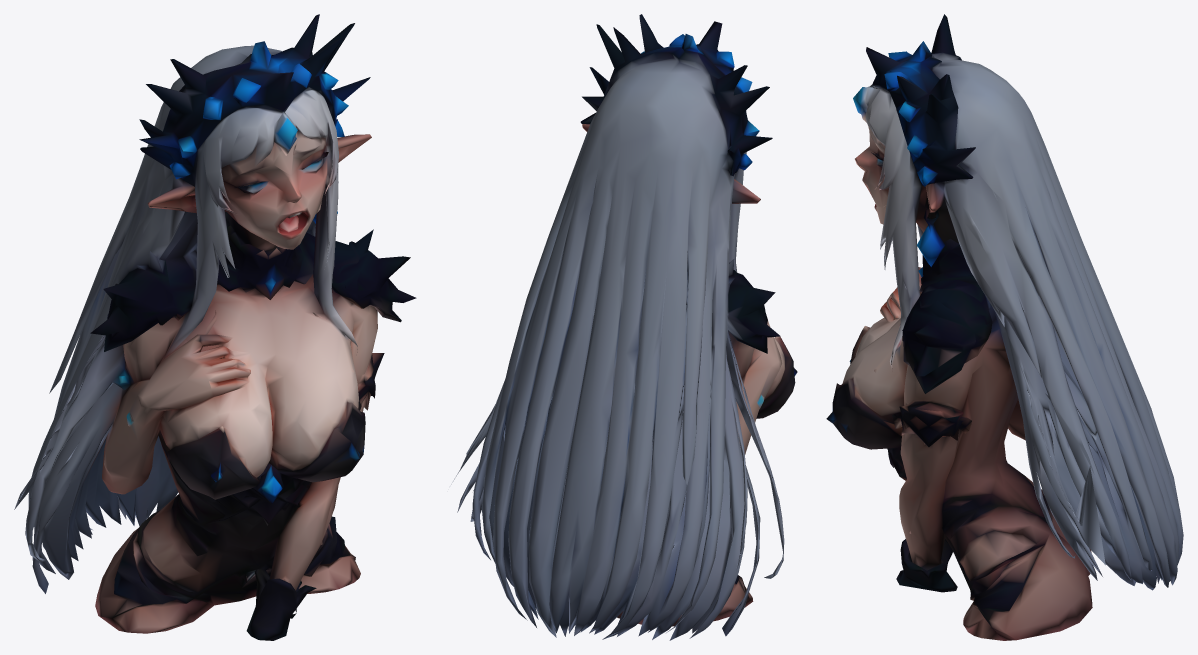
3 renders of one model, left to right at view 1: azimuth 30°, elevation 25°; view 2: azimuth 150°, elevation 25°; view 3: azimuth 270°, elevation 25°, orthographic. The views are drawn at different scales.
Visible parts, largest first — view 1: node_0; view 2: node_0; view 3: node_0.
Boxes of the visible parts, x1=… form: node_0: x1=14, y1=14, x2=416, y2=640; node_0: x1=451, y1=14, x2=797, y2=640; node_0: x1=826, y1=14, x2=1183, y2=640.
Bounding box in the file's own units: 0.6463 × 1.05 × 0.6338.
